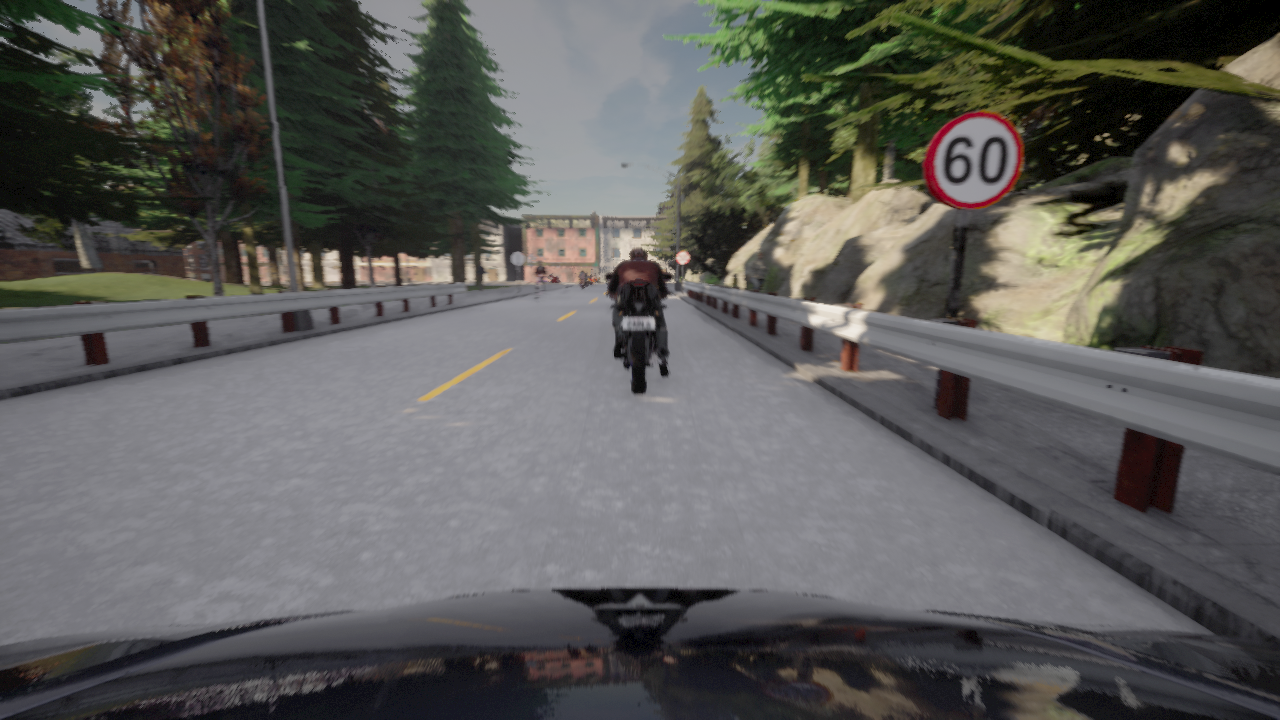cyclist: (0, 588, 1279, 719), (605, 273, 672, 393), (536, 276, 544, 303), (577, 273, 587, 290), (546, 275, 561, 284), (588, 276, 601, 283)
pedestrian: (748, 252, 771, 293), (477, 261, 487, 291), (732, 274, 738, 287)
